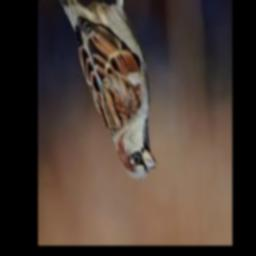Sparrow: (51, 0, 156, 180)
